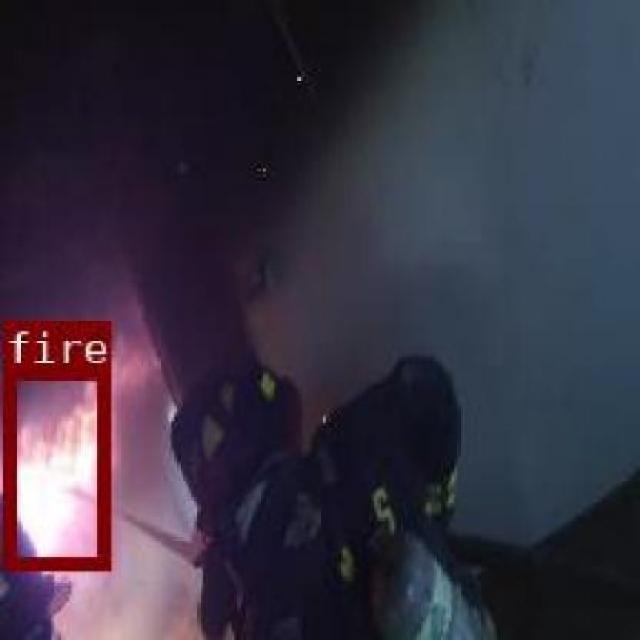Fire: (1, 364, 107, 568)
